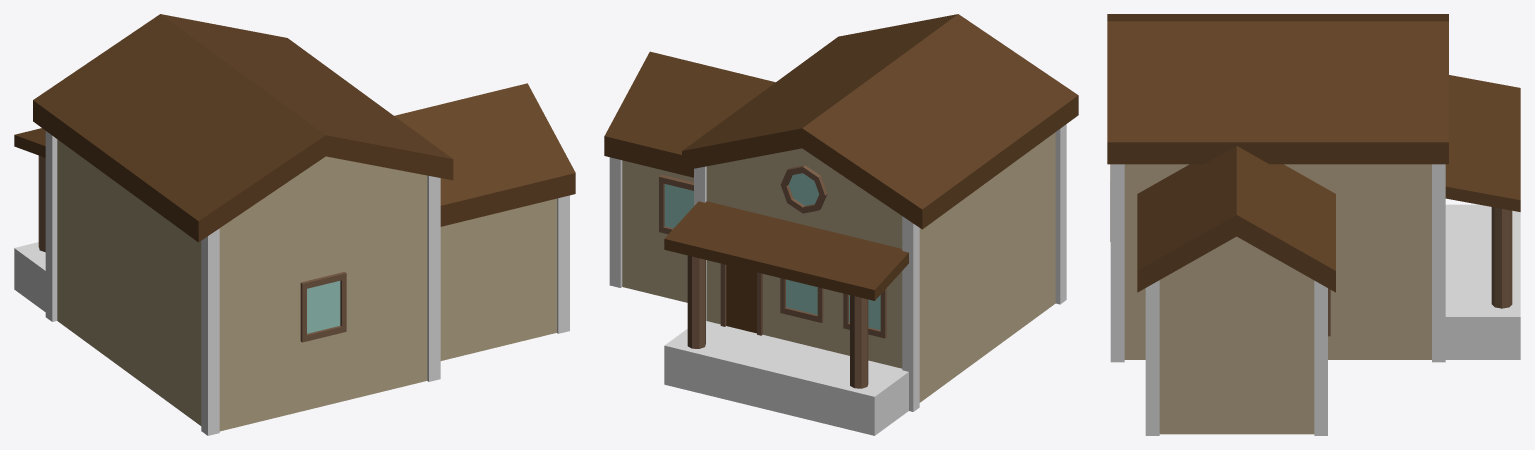
File: 3D House 1.fbx
The picture shows the model from 3 angles, left to right: view 1: azimuth 30°, elevation 25°; view 2: azimuth 150°, elevation 25°; view 3: azimuth 270°, elevation 25°; orthographic projection. The views are drawn at different scales.
Visible parts, largest first — view 1: D_House:pCube1, D_House:pCube4, D_House:pCube3, D_House:pCube5, D_House:pCube13, D_House:pCube21, D_House:pCube14, D_House:pCube12, D_House:pCube9, D_House:pCylinder46; view 2: D_House:pCube1, D_House:pCube4, D_House:pCube5, D_House:pCube3, D_House:pCube12, D_House:pCube15, D_House:pCube13, D_House:pCube8, D_House:pCylinder45, D_House:pCylinder46, D_House:pCylinder44, D_House:pCube17 (+3 smaller); view 3: D_House:pCube4, D_House:pCube1, D_House:pCube3, D_House:pCube5, D_House:pCube14, D_House:pCube10, D_House:pCube9, D_House:pCylinder45, D_House:pCube8.
Boxes of the visible parts, bbox=[...] form: D_House:pCube1: bbox=[14, 128, 427, 431]; D_House:pCube4: bbox=[33, 14, 453, 242]; D_House:pCube3: bbox=[440, 198, 556, 360]; D_House:pCube5: bbox=[394, 83, 575, 226]; D_House:pCube13: bbox=[201, 228, 219, 435]; D_House:pCube21: bbox=[300, 271, 346, 342]; D_House:pCube14: bbox=[427, 175, 440, 381]; D_House:pCube12: bbox=[45, 131, 57, 321]; D_House:pCube9: bbox=[557, 195, 569, 333]; D_House:pCylinder46: bbox=[38, 155, 45, 252]; D_House:pCube1: bbox=[664, 132, 1055, 435]; D_House:pCube4: bbox=[682, 14, 1078, 229]; D_House:pCube5: bbox=[604, 51, 775, 177]; D_House:pCube3: bbox=[622, 160, 693, 302]; D_House:pCube12: bbox=[902, 216, 919, 411]; D_House:pCube15: bbox=[720, 263, 762, 335]; D_House:pCube13: bbox=[1055, 124, 1066, 304]; D_House:pCube8: bbox=[609, 157, 622, 287]; D_House:pCylinder45: bbox=[687, 255, 705, 348]; D_House:pCylinder46: bbox=[850, 295, 868, 388]; D_House:pCylinder44: bbox=[780, 165, 827, 213]; D_House:pCube17: bbox=[659, 175, 693, 234]; D_House:pCube4: bbox=[1107, 14, 1448, 164]; D_House:pCube1: bbox=[1124, 75, 1520, 359]; D_House:pCube3: bbox=[1159, 236, 1314, 434]; D_House:pCube5: bbox=[1137, 146, 1335, 292]; D_House:pCube14: bbox=[1110, 164, 1124, 362]; D_House:pCube10: bbox=[1432, 164, 1445, 362]; D_House:pCube9: bbox=[1145, 280, 1159, 435]; D_House:pCylinder45: bbox=[1491, 207, 1512, 308]; D_House:pCube8: bbox=[1314, 280, 1327, 435].
Size of the model in its own units: 16.59 by 11.07 by 14.69.
